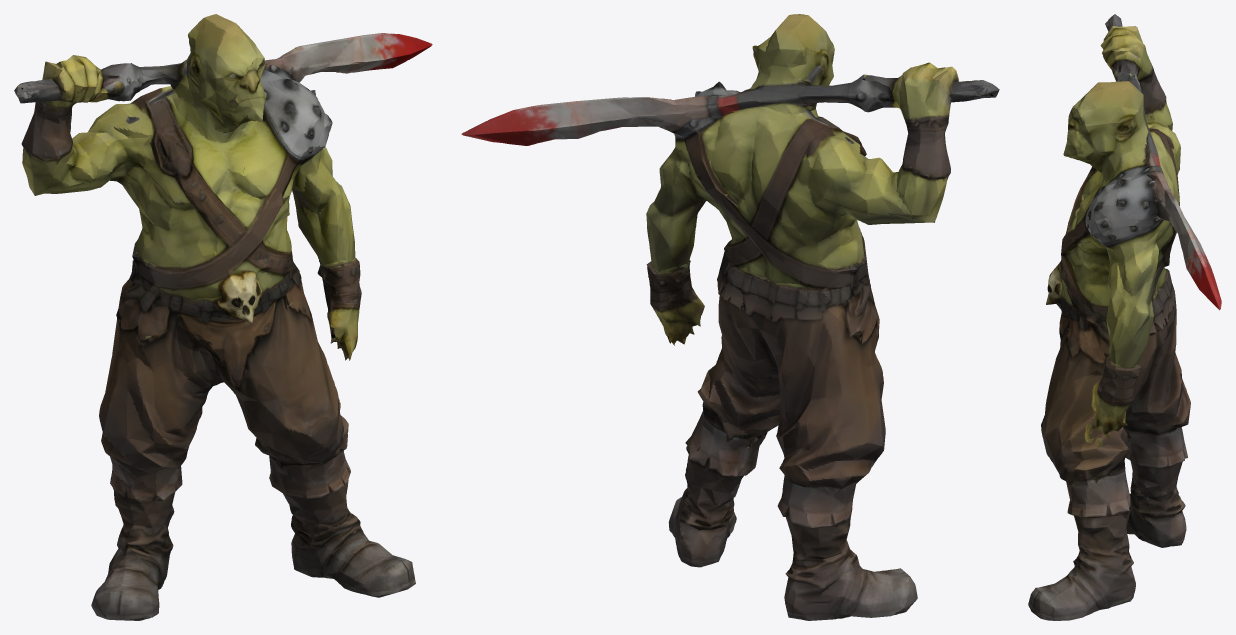
Rendered from orc_heavy_idle.glb.
The picture shows the model from 3 angles, left to right: view 1: azimuth 30°, elevation 25°; view 2: azimuth 150°, elevation 25°; view 3: azimuth 270°, elevation 25°; orthographic projection. The views are drawn at different scales.
Visible parts, largest first — view 1: output_unwrapped; view 2: output_unwrapped; view 3: output_unwrapped.
Boxes of the visible parts, <box> form: output_unwrapped: <box>14,14,432,620</box>; output_unwrapped: <box>461,14,999,620</box>; output_unwrapped: <box>1028,14,1221,620</box>.
Size of the model in its own units: 1.77 by 2 by 0.7379.
1 material, 1 textured.
